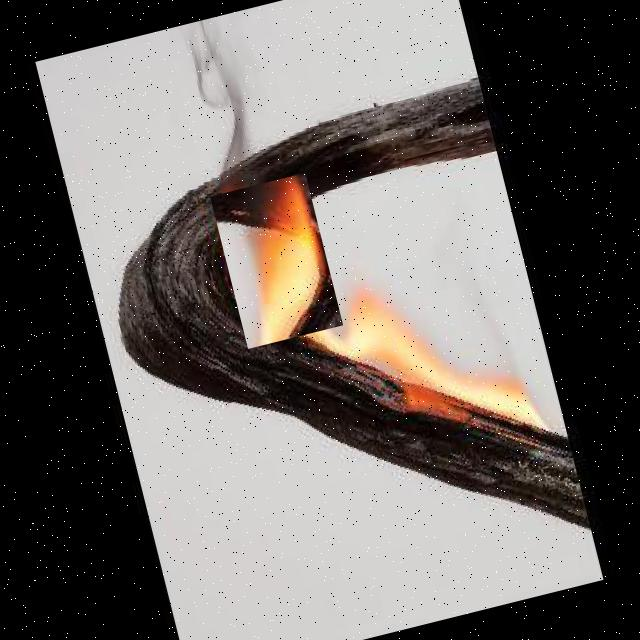fire: (210, 172, 343, 348)
